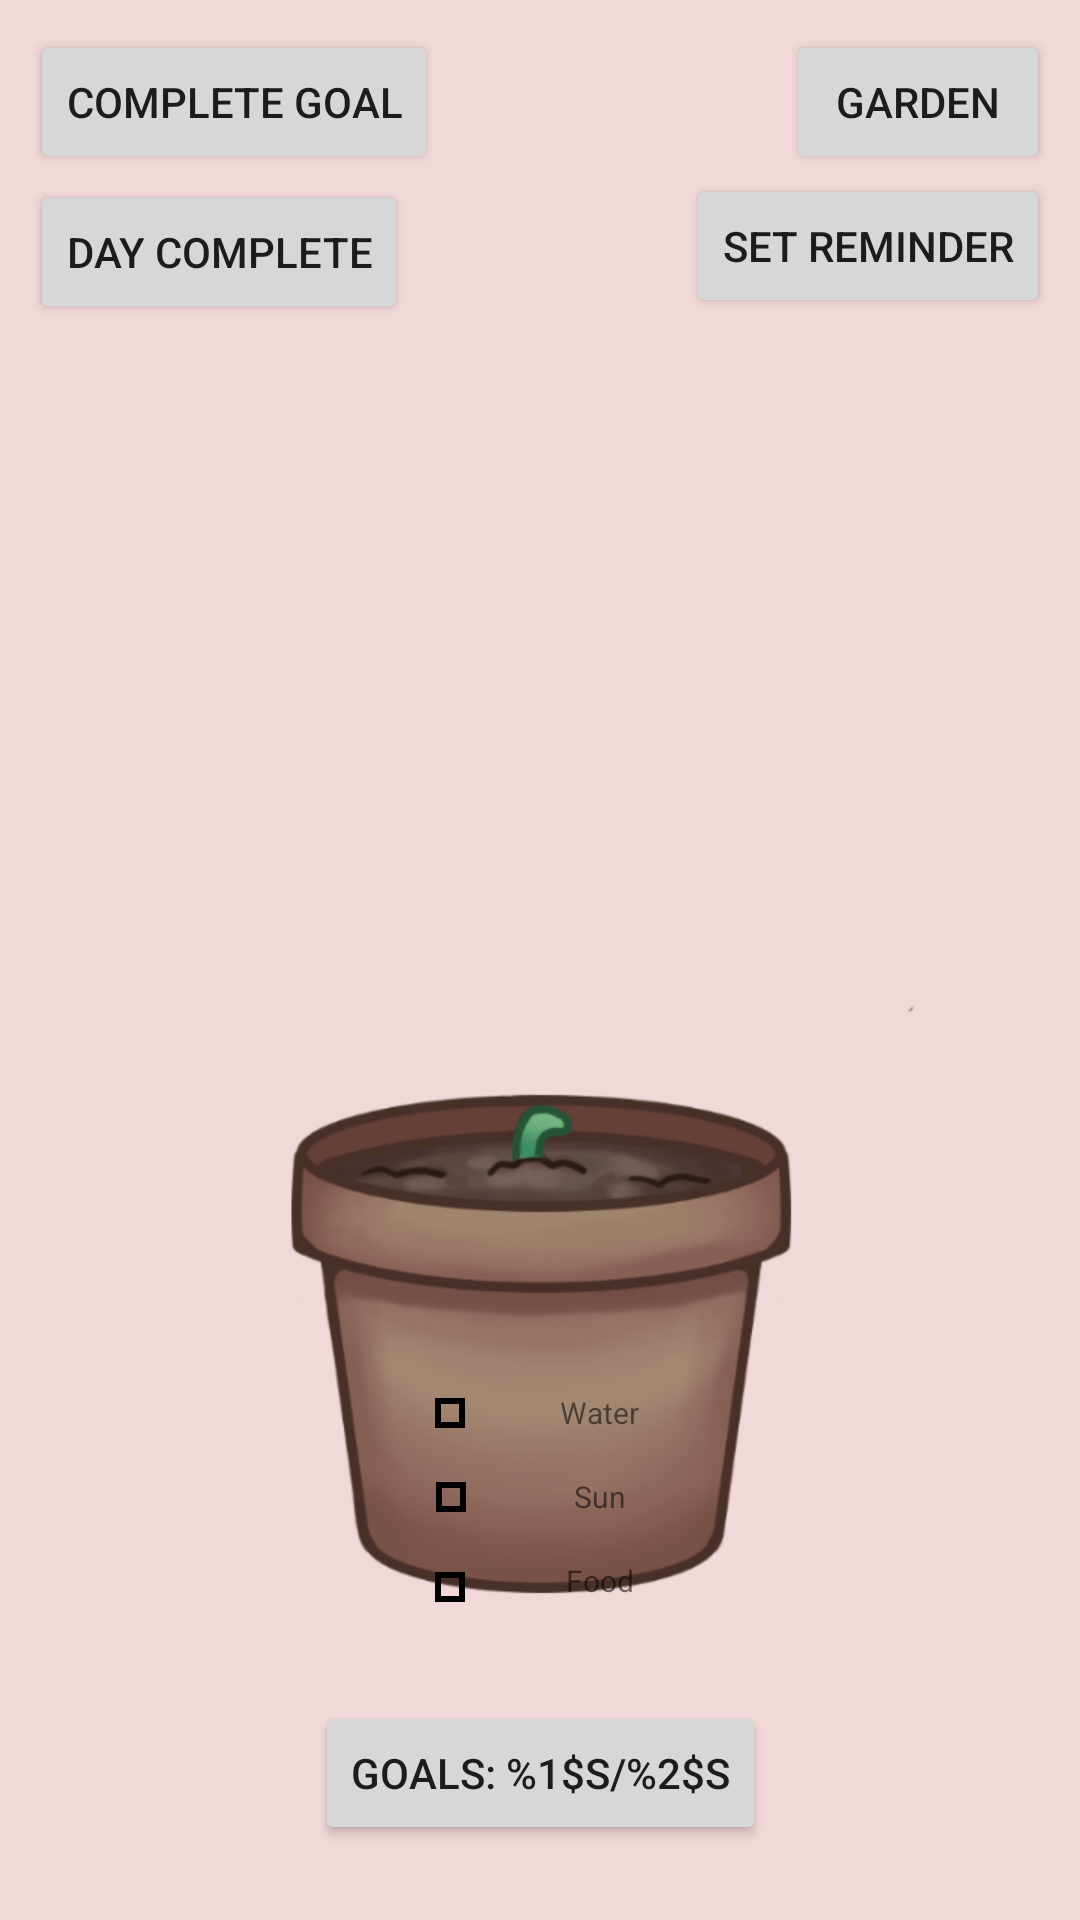

Icon click points for this 1080w x 1920h phone screenshot, format (x,y):
checkbox empty: (450,1413), (451,1497), (450,1587)
